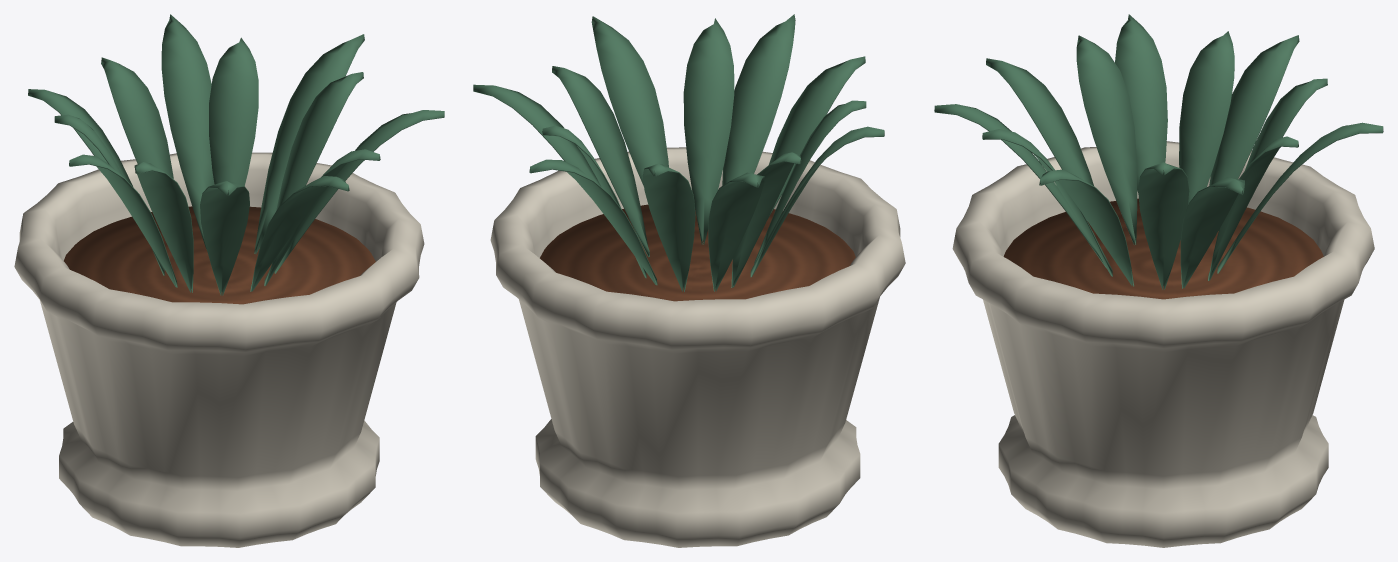
The model's file is reaction_hotel_lobby_0.glb.
The picture shows the model from 3 angles, left to right: view 1: azimuth 30°, elevation 25°; view 2: azimuth 150°, elevation 25°; view 3: azimuth 270°, elevation 25°; orthographic projection. The views are drawn at different scales.
Parts seen in each view (by area): view 1: moulded_planter_vessel, inset_soil, folded_leaf.011, folded_leaf.003, folded_leaf.008, folded_leaf.006, folded_leaf.007, folded_leaf, folded_leaf.012, folded_leaf.002, folded_leaf.004, folded_leaf.005 (+3 smaller); view 2: moulded_planter_vessel, inset_soil, folded_leaf.010, folded_leaf.002, folded_leaf.005, folded_leaf, folded_leaf.006, folded_leaf.001, folded_leaf.007, folded_leaf.009, folded_leaf.008, folded_leaf.011 (+3 smaller); view 3: moulded_planter_vessel, inset_soil, folded_leaf.012, folded_leaf.009, folded_leaf.004, folded_leaf.001, folded_leaf, folded_leaf.007, folded_leaf.008, folded_leaf.005, folded_leaf.003, folded_leaf.002 (+3 smaller).
Boxes of the visible parts, left/top/right/bottom form: moulded_planter_vessel: left=14, top=152, right=424, bottom=547; inset_soil: left=64, top=206, right=375, bottom=304; folded_leaf.011: left=161, top=14, right=214, bottom=249; folded_leaf.003: left=209, top=37, right=258, bottom=185; folded_leaf.008: left=254, top=34, right=364, bottom=253; folded_leaf.006: left=101, top=57, right=173, bottom=178; folded_leaf.007: left=200, top=180, right=249, bottom=295; folded_leaf: left=276, top=72, right=363, bottom=211; folded_leaf.012: left=134, top=162, right=193, bottom=292; folded_leaf.002: left=250, top=176, right=349, bottom=291; folded_leaf.004: left=69, top=154, right=177, bottom=287; folded_leaf.005: left=274, top=110, right=444, bottom=273; moulded_planter_vessel: left=490, top=147, right=905, bottom=547; inset_soil: left=540, top=204, right=855, bottom=301; folded_leaf.010: left=683, top=18, right=734, bottom=244; folded_leaf.002: left=722, top=14, right=795, bottom=185; folded_leaf.005: left=591, top=16, right=668, bottom=186; folded_leaf: left=552, top=66, right=649, bottom=257; folded_leaf.006: left=642, top=163, right=695, bottom=291; folded_leaf.001: left=708, top=172, right=764, bottom=291; folded_leaf.007: left=767, top=56, right=865, bottom=219; folded_leaf.009: left=731, top=152, right=801, bottom=287; folded_leaf.008: left=473, top=84, right=601, bottom=186; folded_leaf.011: left=529, top=159, right=657, bottom=285; moulded_planter_vessel: left=952, top=141, right=1374, bottom=547; inset_soil: left=1003, top=198, right=1323, bottom=299; folded_leaf.012: left=1076, top=35, right=1137, bottom=244; folded_leaf.009: left=1179, top=31, right=1234, bottom=204; folded_leaf.004: left=1115, top=14, right=1167, bottom=192; folded_leaf.001: left=1209, top=35, right=1299, bottom=185; folded_leaf: left=1138, top=162, right=1189, bottom=289; folded_leaf.007: left=986, top=58, right=1093, bottom=185; folded_leaf.008: left=1180, top=177, right=1244, bottom=288; folded_leaf.005: left=1039, top=169, right=1134, bottom=286; folded_leaf.003: left=1208, top=136, right=1298, bottom=280; folded_leaf.002: left=934, top=104, right=1106, bottom=268.
Bounding box in the file's own units: 1.13 × 1.14 × 1.19.
Materials: 3 (1 with a texture image).
